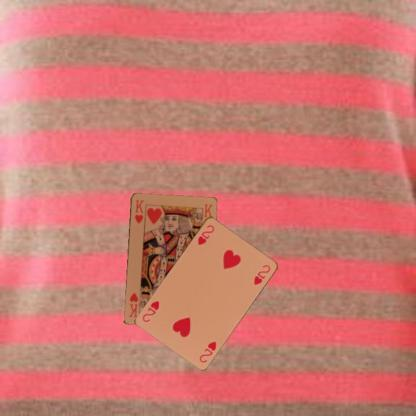2h: (196, 339, 218, 364), (194, 222, 216, 246)
Kh: (132, 197, 144, 225)
